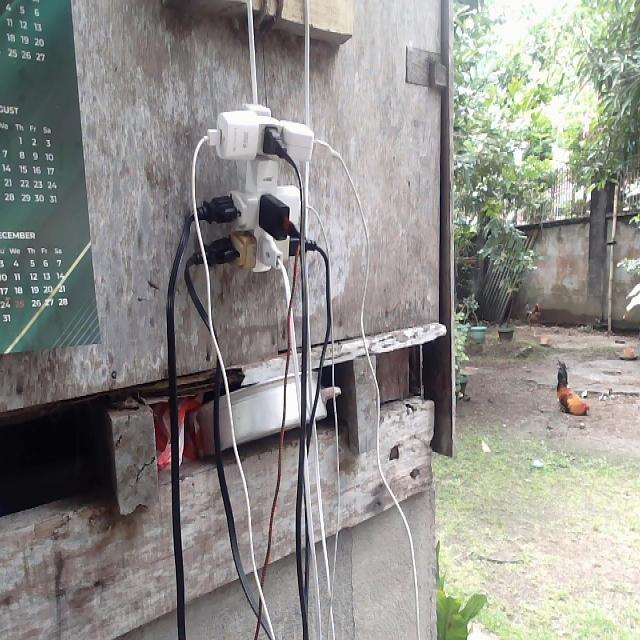-: (176, 103, 339, 272)
